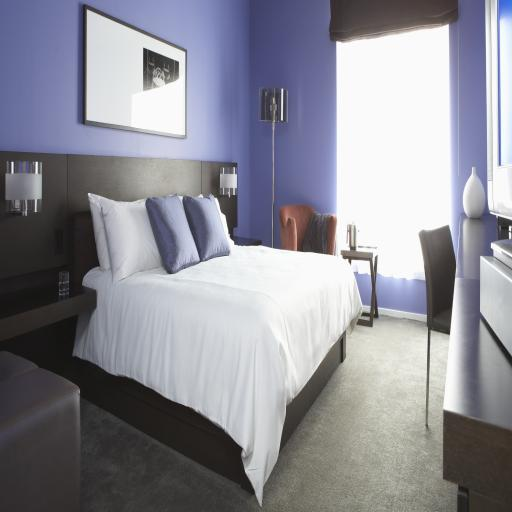bed: (67, 154, 363, 508)
sofa: (279, 204, 337, 256)
